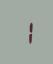one: (19, 20, 32, 44)
